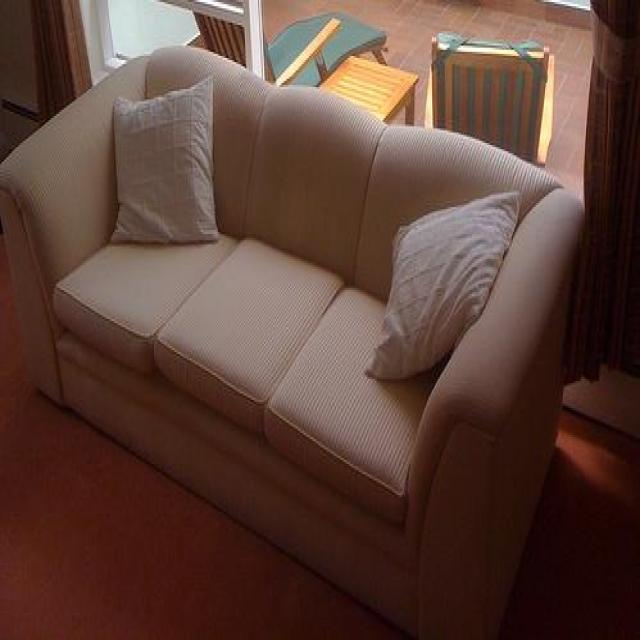sofa: (0, 43, 585, 640)
